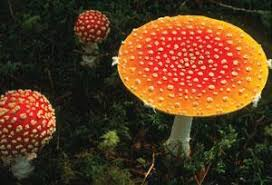orange: (117, 15, 267, 117)
